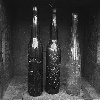beer: (21, 6, 44, 99)
